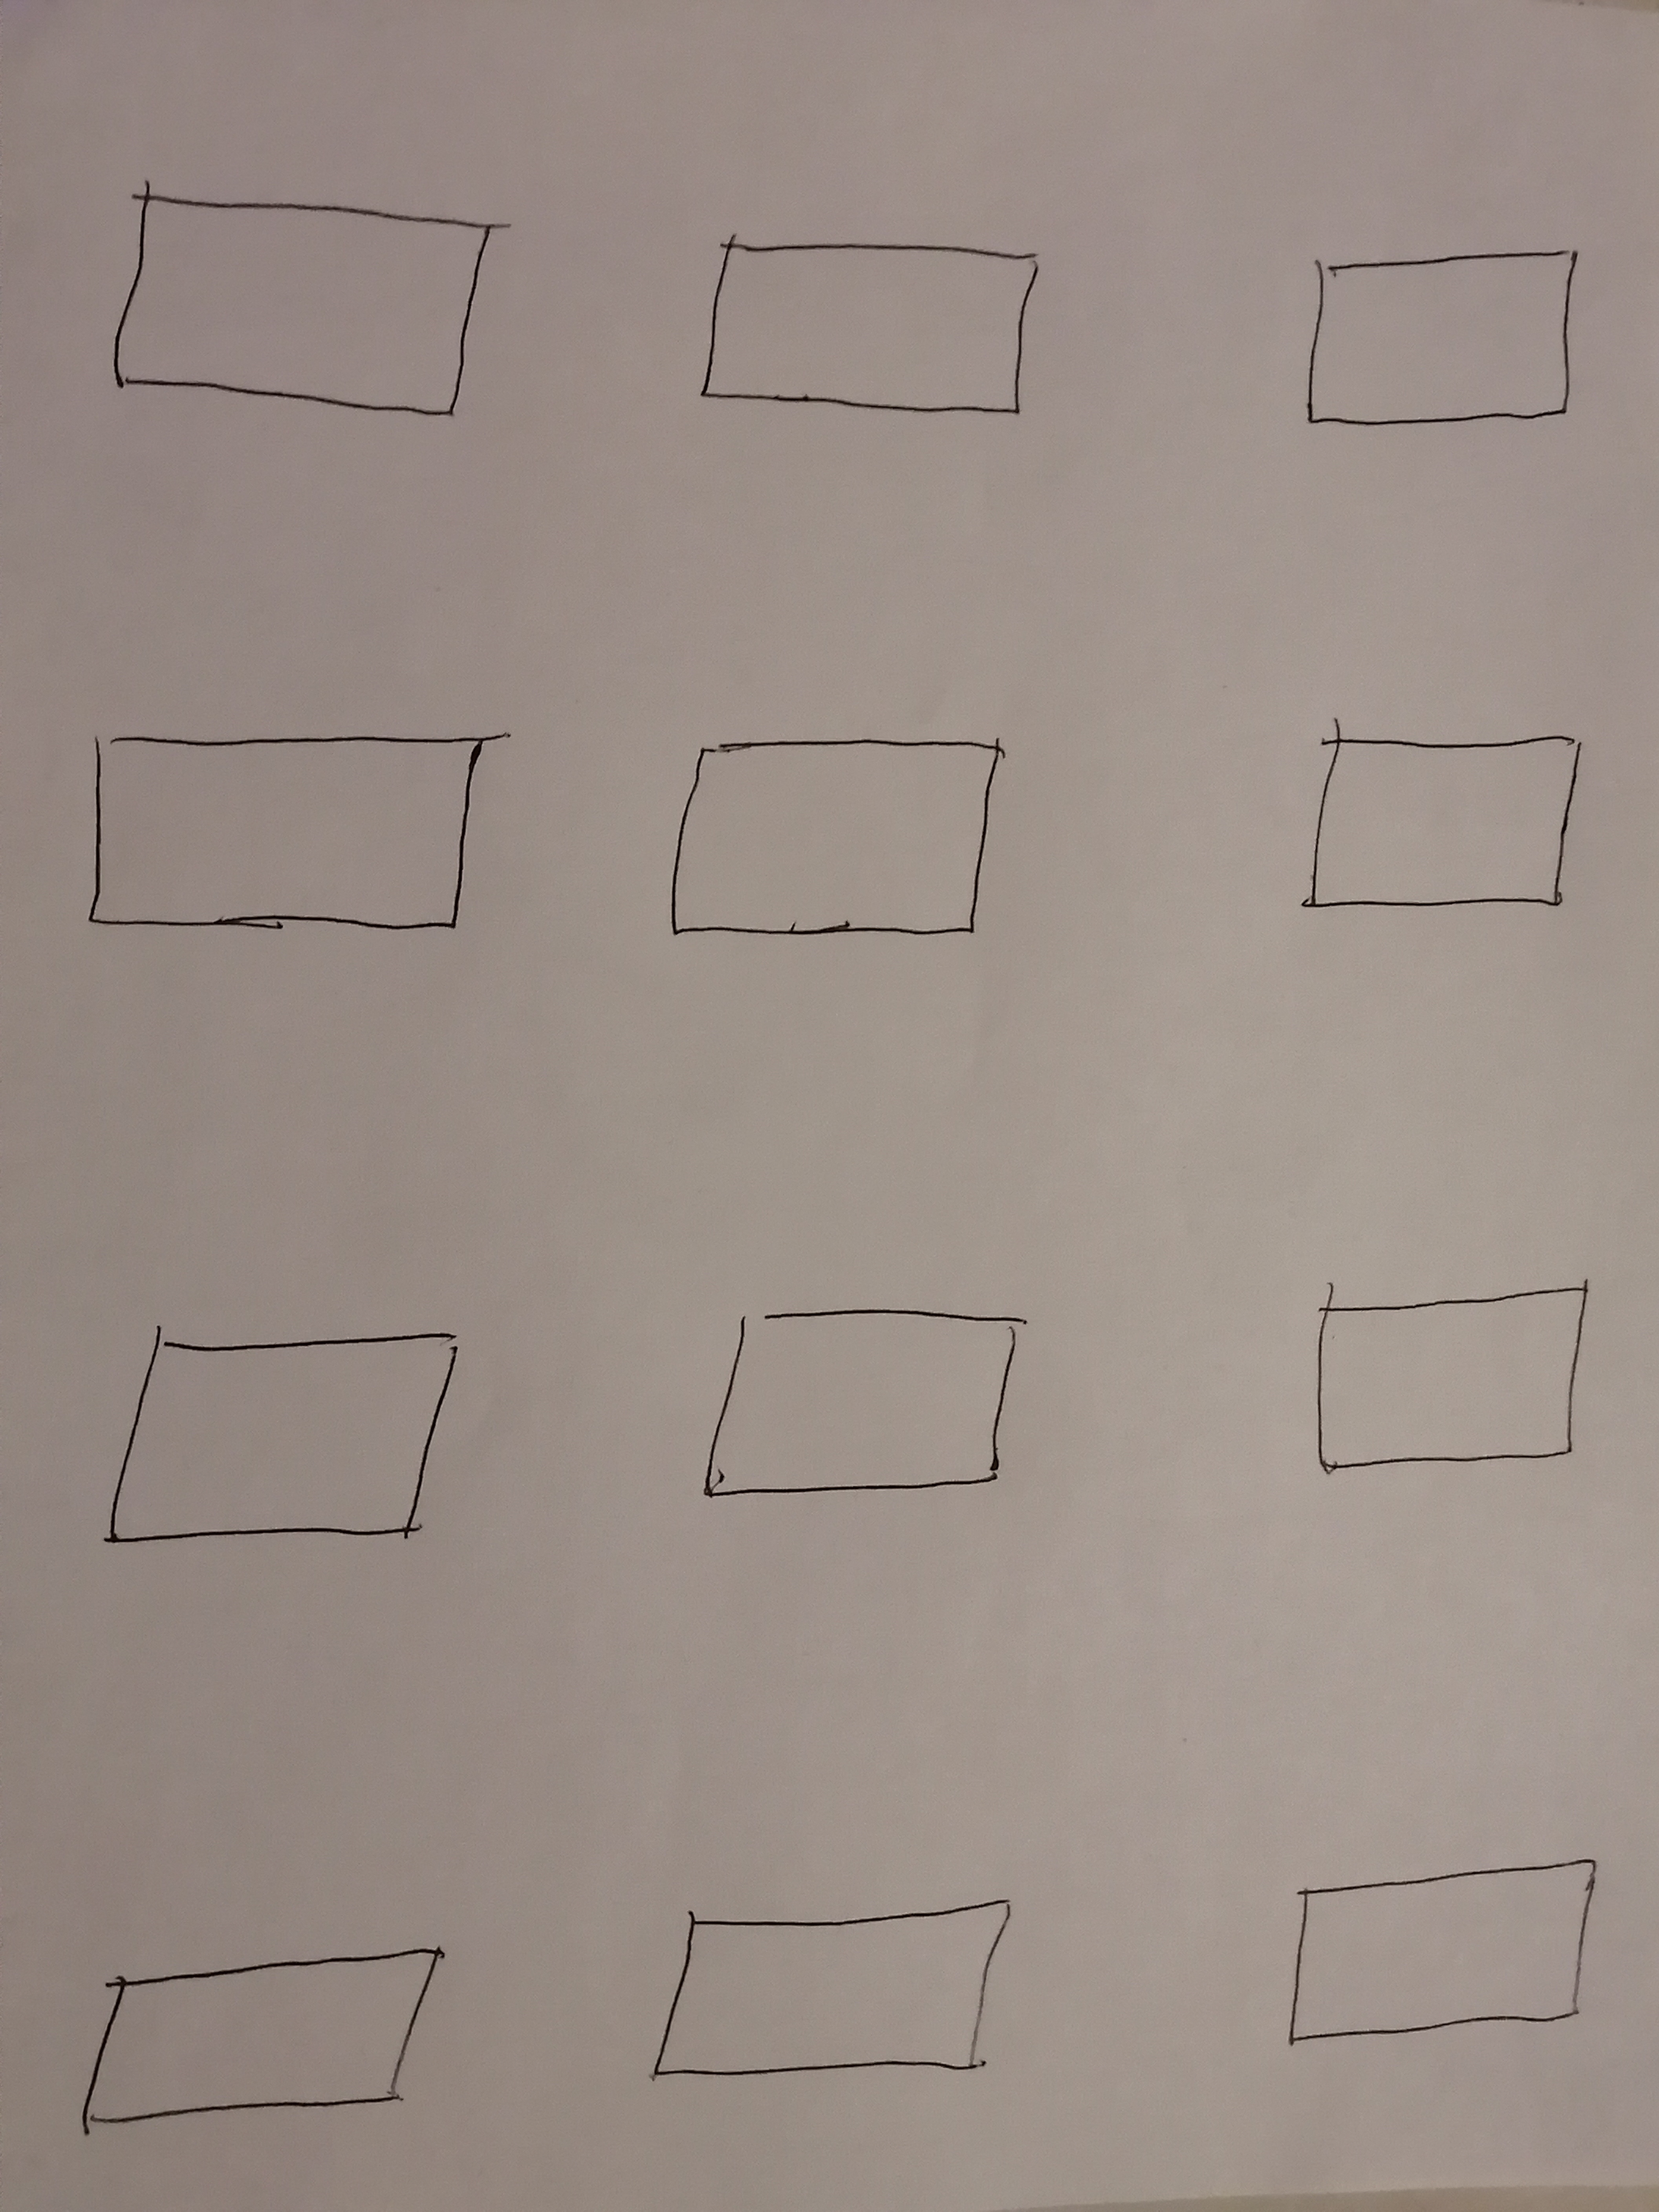process: (85, 134, 545, 467), (42, 691, 556, 981), (78, 1273, 481, 1623), (671, 181, 1066, 488), (648, 698, 1028, 1010), (620, 1860, 1073, 2113), (59, 1898, 467, 2177), (660, 1263, 1066, 1538), (1270, 667, 1617, 970), (1253, 1242, 1628, 1510), (1246, 1834, 1624, 2076), (1277, 228, 1603, 467)
